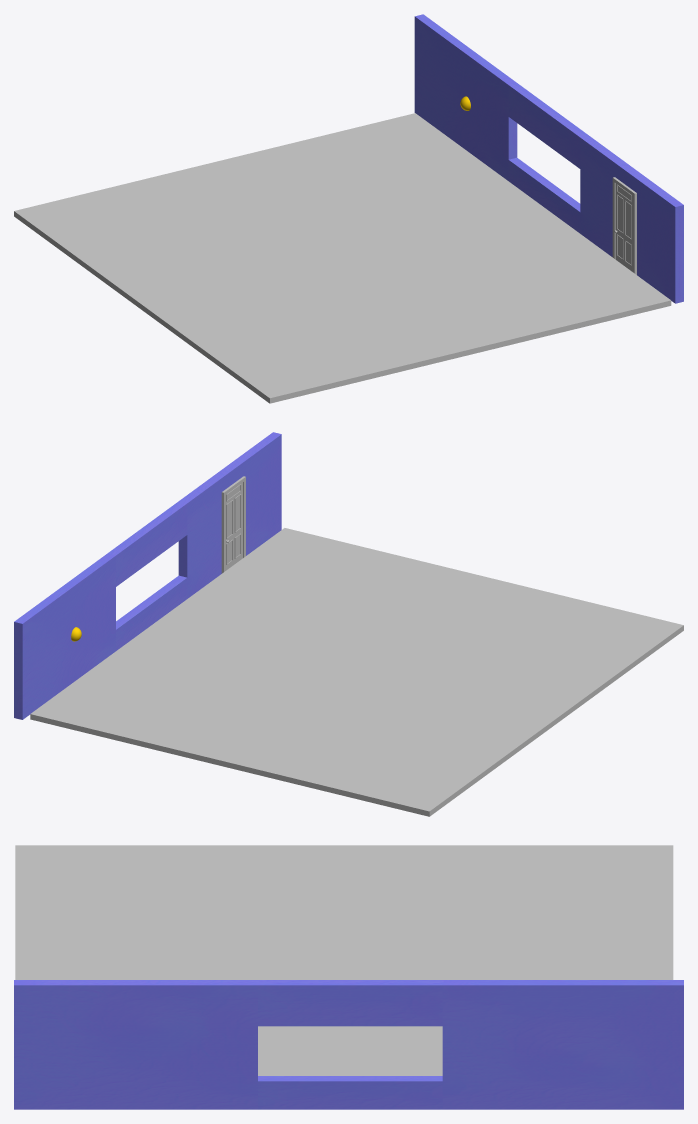
File: Room_Front.fbx
3 views of the same model, one above another, from view 1: azimuth 30°, elevation 25°; view 2: azimuth 150°, elevation 25°; view 3: azimuth 270°, elevation 25° (orthographic). The views are drawn at different scales.
Parts seen in each view (by area): view 1: M_Badroom_LantaiDapur, M_Badroom_Tembok4, M_Badroom_PintuKamar__2_; view 2: M_Badroom_LantaiDapur, M_Badroom_Tembok4, M_Badroom_PintuKamar__2_; view 3: M_Badroom_LantaiDapur, M_Badroom_Tembok4.
Part boxes in pixels (<box>): M_Badroom_LantaiDapur: <box>14,113,671,403</box>; M_Badroom_Tembok4: <box>414,14,683,303</box>; M_Badroom_PintuKamar__2_: <box>612,177,636,274</box>; M_Badroom_LantaiDapur: <box>30,528,683,816</box>; M_Badroom_Tembok4: <box>14,432,281,719</box>; M_Badroom_PintuKamar__2_: <box>221,476,245,573</box>; M_Badroom_LantaiDapur: <box>15,845,673,1075</box>; M_Badroom_Tembok4: <box>14,980,683,1109</box>.
Bounding box in the file's own units: 967 × 220 × 1056.
